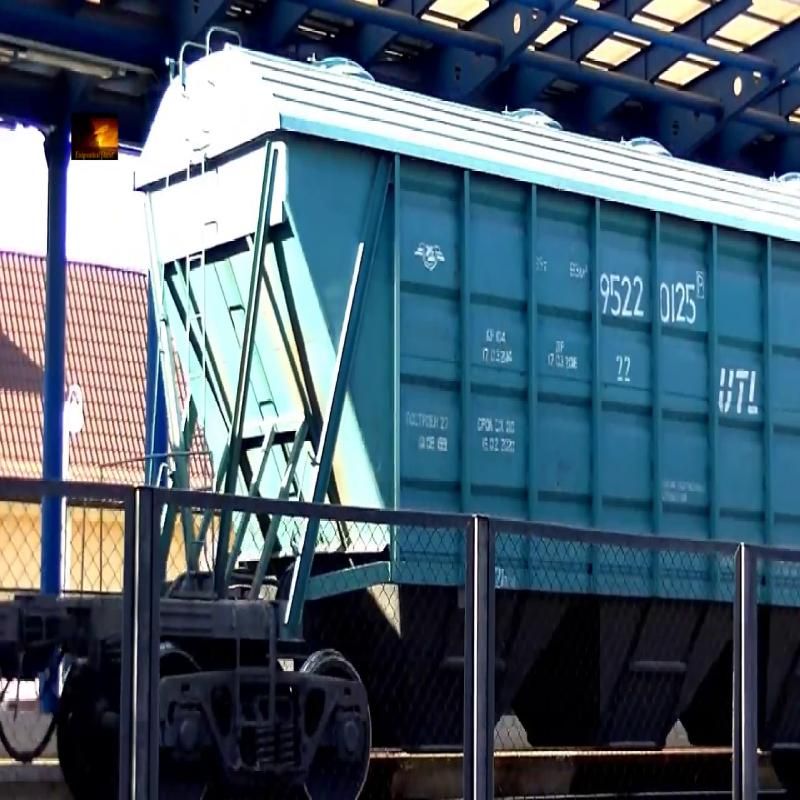train: (121, 1, 799, 761)
